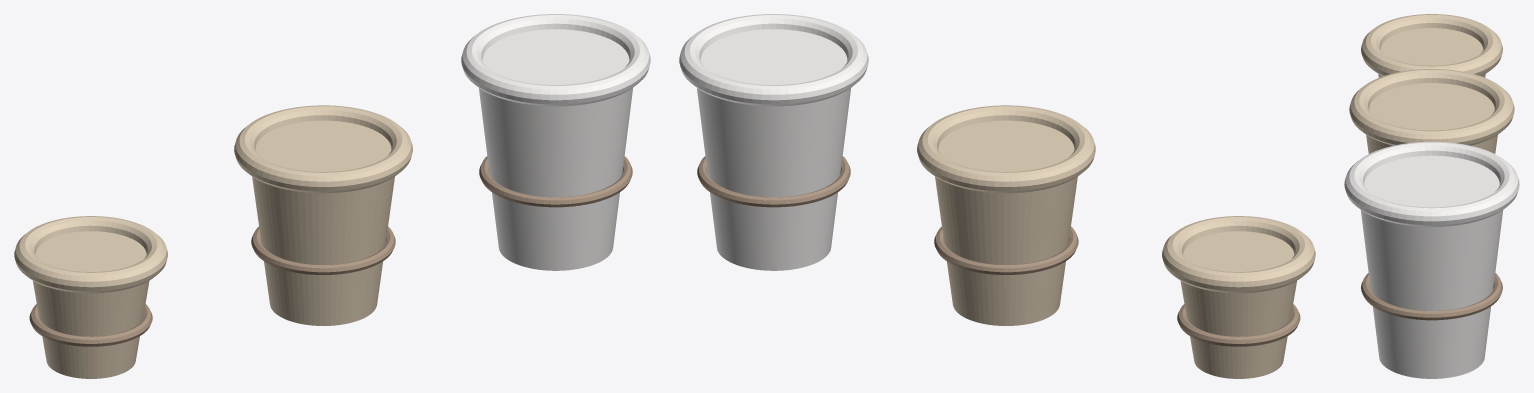
Rendered from cups.glb.
3 views of the same model, side by side, from view 1: azimuth 30°, elevation 25°; view 2: azimuth 150°, elevation 25°; view 3: azimuth 270°, elevation 25° (orthographic). The views are drawn at different scales.
Parts seen in each view (by area): view 1: Cup_12oz, Cup_8oz, Cup_4oz, Cup_12oz_rim, Cup_8oz_rim, Cup_4oz_rim, Cup_12oz_band, Cup_8oz_band, Cup_4oz_band; view 2: Cup_12oz, Cup_8oz, Cup_4oz, Cup_12oz_rim, Cup_8oz_rim, Cup_4oz_rim, Cup_12oz_band, Cup_8oz_band, Cup_4oz_band; view 3: Cup_12oz, Cup_12oz_rim, Cup_8oz_rim, Cup_8oz, Cup_4oz_rim, Cup_4oz, Cup_12oz_band.
Part boxes in pixels (x1,y1,x2,y2): Cup_12oz: [479, 29, 632, 270]; Cup_8oz: [252, 120, 394, 325]; Cup_4oz: [33, 231, 149, 378]; Cup_12oz_rim: [461, 14, 650, 106]; Cup_8oz_rim: [234, 105, 412, 193]; Cup_4oz_rim: [14, 216, 167, 293]; Cup_12oz_band: [479, 156, 632, 207]; Cup_8oz_band: [251, 226, 395, 274]; Cup_4oz_band: [29, 304, 152, 346]; Cup_12oz: [697, 29, 850, 270]; Cup_8oz: [935, 120, 1077, 325]; Cup_4oz: [1180, 231, 1296, 378]; Cup_12oz_rim: [679, 14, 868, 106]; Cup_8oz_rim: [917, 105, 1095, 193]; Cup_4oz_rim: [1162, 216, 1315, 293]; Cup_12oz_band: [697, 156, 850, 207]; Cup_8oz_band: [934, 226, 1078, 274]; Cup_4oz_band: [1177, 304, 1300, 346]; Cup_12oz: [1361, 155, 1502, 378]; Cup_12oz_rim: [1344, 141, 1519, 226]; Cup_8oz_rim: [1349, 69, 1514, 145]; Cup_8oz: [1366, 83, 1497, 153]; Cup_4oz_rim: [1361, 14, 1502, 75]; Cup_4oz: [1378, 28, 1485, 77]; Cup_12oz_band: [1361, 273, 1502, 320].
Size of the model in its own units: 0.396 by 0.121 by 0.106.
